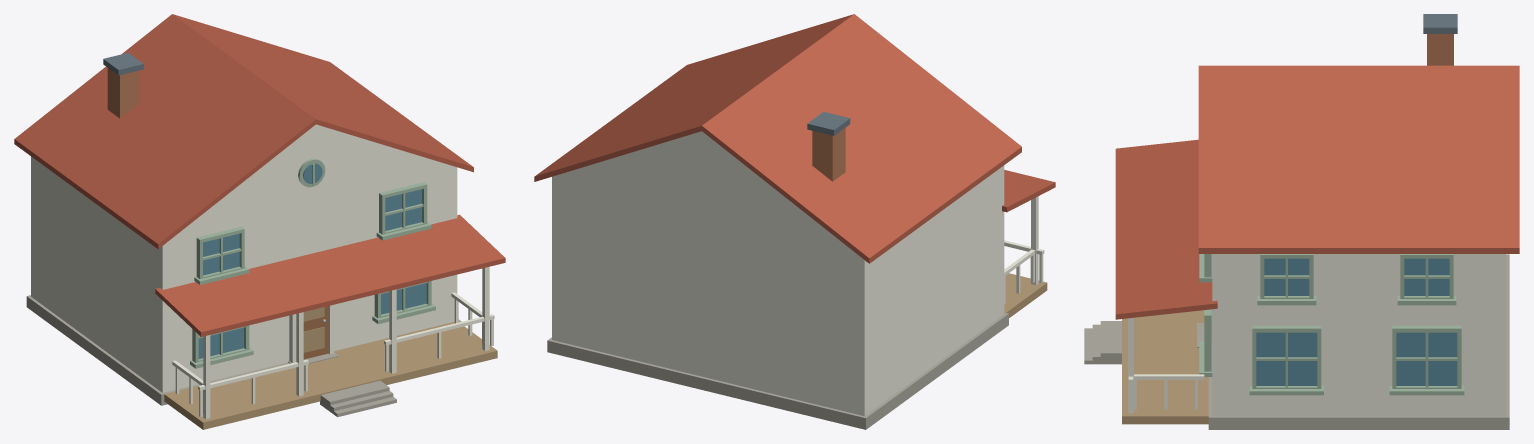
File: house_farmhouse.glb
The picture shows the model from 3 angles, left to right: view 1: azimuth 30°, elevation 25°; view 2: azimuth 150°, elevation 25°; view 3: azimuth 270°, elevation 25°; orthographic projection. The views are drawn at different scales.
Visible parts, largest first — view 1: Farmhouse_Walls, Farmhouse_Steep_Roof_Left_Slope, Farmhouse_Long_Porch_Roof, Farmhouse_Long_Porch_Deck, Farmhouse_Steep_Roof_Right_Slope, Farmhouse_Steep_Roof_Front_Gable, Farmhouse_Foundation, Farmhouse_Chimney, Farmhouse_Upper_Front_Window_-2.6_Glass, Farmhouse_Upper_Front_Window_2.6_Glass, Farmhouse_Long_Porch_Step_0, Farmhouse_Lower_Front_Window_-2.6_Glass (+12 smaller); view 2: Farmhouse_Walls, Farmhouse_Steep_Roof_Left_Slope, Farmhouse_Steep_Roof_Right_Slope, Farmhouse_Steep_Roof_Rear_Gable, Farmhouse_Foundation, Farmhouse_Chimney, Farmhouse_Long_Porch_Roof, Farmhouse_Long_Porch_Deck, Farmhouse_Chimney_Cap, Farmhouse_Long_Porch_Post_0; view 3: Farmhouse_Steep_Roof_Right_Slope, Farmhouse_Walls, Farmhouse_Long_Porch_Roof, Farmhouse_Long_Porch_Deck, Farmhouse_Foundation, Farmhouse_Right_Window_-1.6_Glass, Farmhouse_Right_Window_1.5_Glass, Farmhouse_Right_Upper_Window_1.5_Glass, Farmhouse_Right_Upper_Window_-1.6_Glass, Farmhouse_Long_Porch_Step_0, Farmhouse_Chimney, Farmhouse_Chimney_Cap (+9 smaller).
Boxes of the visible parts, x1=… form: Farmhouse_Walls: x1=31, y1=156, x2=457, y2=392; Farmhouse_Steep_Roof_Left_Slope: x1=14, y1=14, x2=315, y2=249; Farmhouse_Long_Porch_Roof: x1=155, y1=214, x2=505, y2=336; Farmhouse_Long_Porch_Deck: x1=164, y1=322, x2=497, y2=429; Farmhouse_Steep_Roof_Right_Slope: x1=173, y1=14, x2=473, y2=172; Farmhouse_Steep_Roof_Front_Gable: x1=186, y1=124, x2=445, y2=227; Farmhouse_Foundation: x1=26, y1=295, x2=461, y2=405; Farmhouse_Chimney: x1=107, y1=68, x2=139, y2=118; Farmhouse_Upper_Front_Window_-2.6_Glass: x1=203, y1=233, x2=239, y2=275; Farmhouse_Upper_Front_Window_2.6_Glass: x1=385, y1=189, x2=421, y2=230; Farmhouse_Long_Porch_Step_0: x1=320, y1=380, x2=389, y2=411; Farmhouse_Lower_Front_Window_-2.6_Glass: x1=198, y1=327, x2=243, y2=358; Farmhouse_Walls: x1=552, y1=165, x2=1004, y2=416; Farmhouse_Steep_Roof_Left_Slope: x1=702, y1=14, x2=1021, y2=263; Farmhouse_Steep_Roof_Right_Slope: x1=534, y1=14, x2=853, y2=181; Farmhouse_Steep_Roof_Rear_Gable: x1=564, y1=131, x2=839, y2=240; Farmhouse_Foundation: x1=547, y1=313, x2=1008, y2=429; Farmhouse_Chimney: x1=812, y1=128, x2=845, y2=181; Farmhouse_Long_Porch_Roof: x1=1002, y1=170, x2=1055, y2=212; Farmhouse_Long_Porch_Deck: x1=1004, y1=273, x2=1047, y2=317; Farmhouse_Chimney_Cap: x1=807, y1=111, x2=850, y2=135; Farmhouse_Long_Porch_Post_0: x1=1031, y1=196, x2=1038, y2=285; Farmhouse_Steep_Roof_Right_Slope: x1=1198, y1=65, x2=1519, y2=253; Farmhouse_Walls: x1=1212, y1=254, x2=1505, y2=416; Farmhouse_Long_Porch_Roof: x1=1115, y1=139, x2=1217, y2=319; Farmhouse_Long_Porch_Deck: x1=1122, y1=310, x2=1208, y2=424; Farmhouse_Foundation: x1=1208, y1=254, x2=1509, y2=429; Farmhouse_Right_Window_-1.6_Glass: x1=1256, y1=332, x2=1317, y2=385; Farmhouse_Right_Window_1.5_Glass: x1=1396, y1=332, x2=1457, y2=385; Farmhouse_Right_Upper_Window_1.5_Glass: x1=1404, y1=258, x2=1449, y2=295; Farmhouse_Right_Upper_Window_-1.6_Glass: x1=1264, y1=258, x2=1309, y2=295; Farmhouse_Long_Porch_Step_0: x1=1100, y1=321, x2=1121, y2=364; Farmhouse_Chimney: x1=1427, y1=34, x2=1453, y2=65; Farmhouse_Chimney_Cap: x1=1423, y1=14, x2=1457, y2=33.
Size of the model in its own units: 9 by 6.9 by 9.63.
